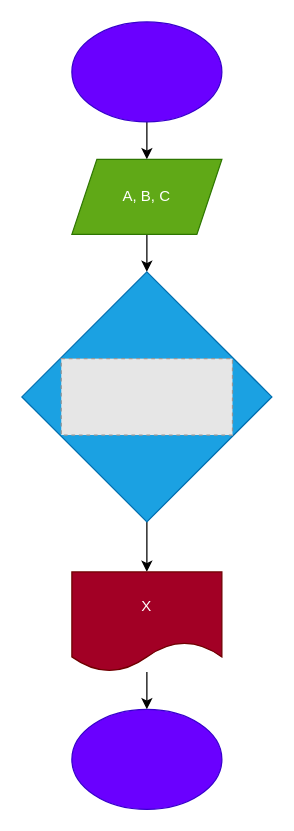
Image size: 294x831. Some labels were removed from this diagram. Grey dashed boxes stand in for pictures. The shapes that lost their labels are listed below. From the top down, each one's centre as x and y in pixels, then its label:
point (146, 71): INICIO
point (146, 758): FIN
